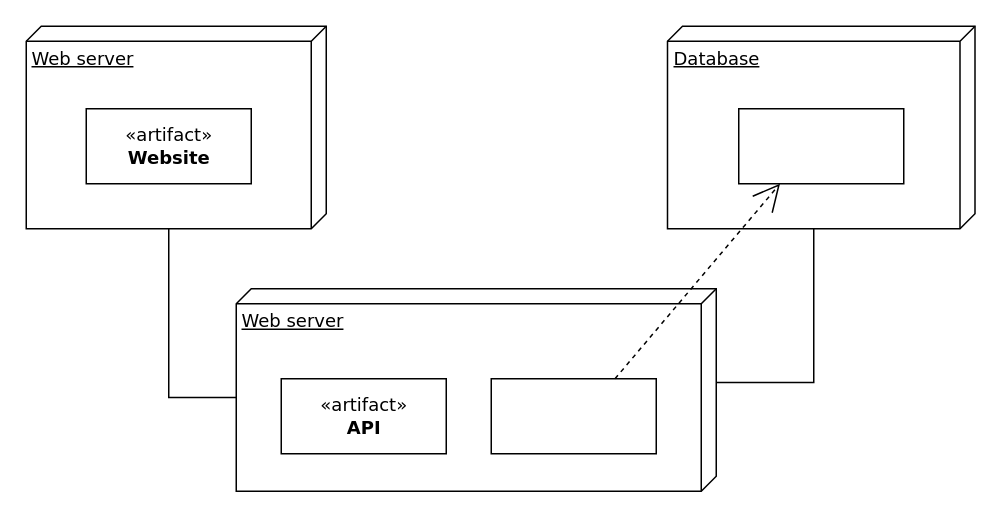
The diagram is 1002 pixels wide and 518 high, and some of its shapes have lost their labels. Here are the shapes that lost their labels. From the top down, the centre of each, then its label:
(820,145): «artifact» Postgresql
(573,415): «artifact» Prisma ORM
